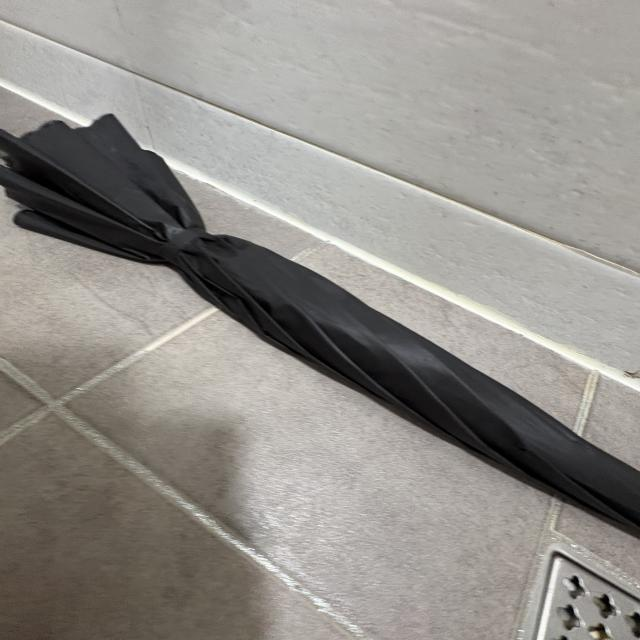umbrella: (2, 110, 640, 527)
